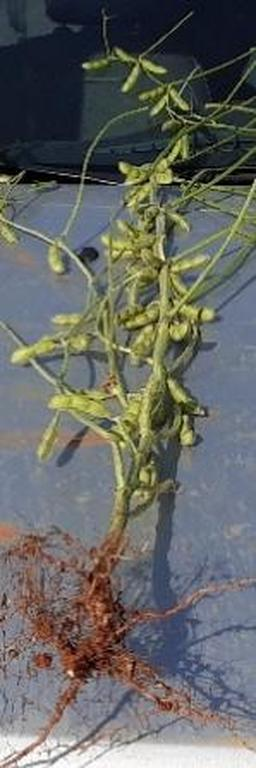pod: (8, 333, 60, 368), (32, 416, 63, 459), (169, 251, 213, 270), (115, 66, 144, 93), (179, 303, 218, 322), (46, 243, 68, 275), (79, 52, 115, 71), (139, 56, 174, 75), (48, 313, 88, 324)
soy: (1, 41, 235, 726)
